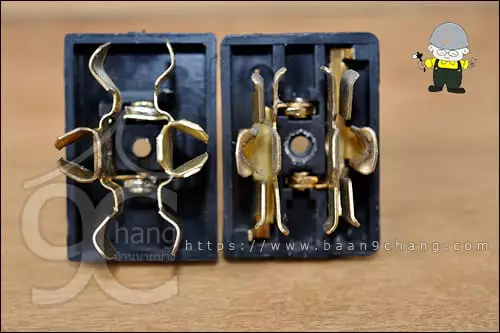Three_eye_plug: (213, 30, 384, 264), (59, 25, 220, 263)
